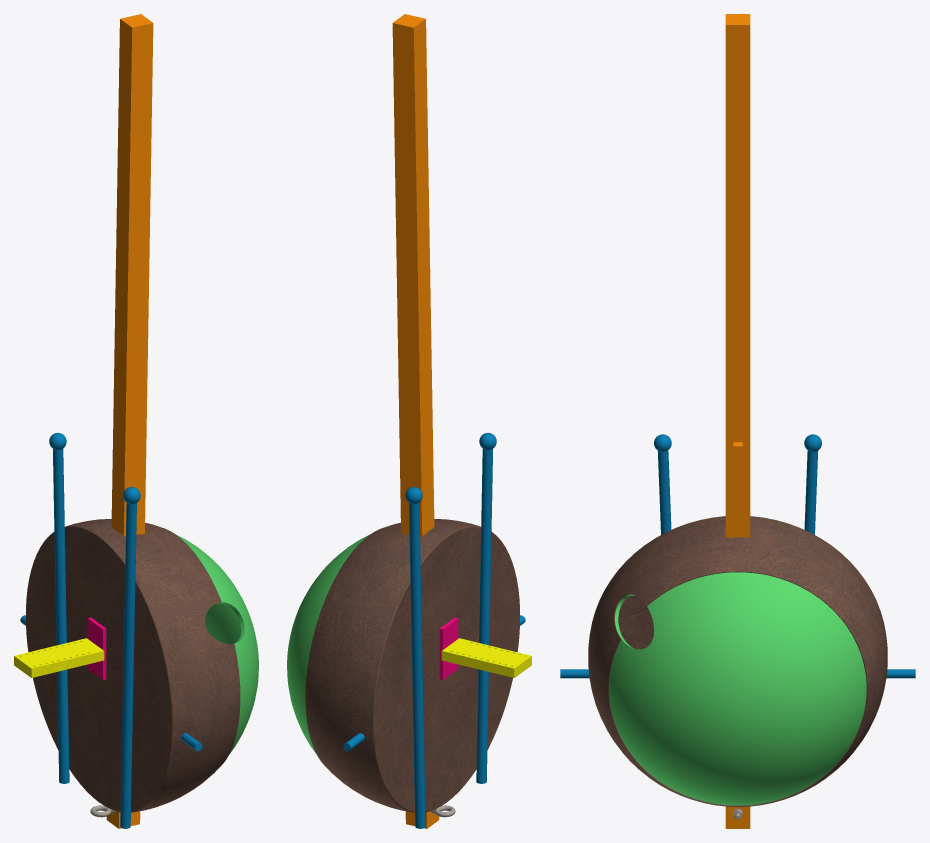
File: KOR-000_KoraHarp.gltf
3 renders of one model, left to right at view 1: azimuth 30°, elevation 25°; view 2: azimuth 150°, elevation 25°; view 3: azimuth 270°, elevation 25°, orthographic.
Parts seen in each view (by area): view 1: KOR-000-Membrane-1, KOR-000-Neck-1, KOR-000-Gourd-1, KOR-000-Handle-2, KOR-000-Handle-1, KOR-000-Bridge-1, KOR-000-BridgePad-1; view 2: KOR-000-Membrane-1, KOR-000-Neck-1, KOR-000-Handle-1, KOR-000-Handle-2, KOR-000-Gourd-1, KOR-000-Bridge-1, KOR-000-BridgePad-1; view 3: KOR-000-Gourd-1, KOR-000-Membrane-1, KOR-000-Neck-1, KOR-000-Handle-1, KOR-000-Handle-2.
Part boxes in pixels (x1,y1,x2,y2): KOR-000-Membrane-1: (26, 519, 240, 812); KOR-000-Neck-1: (106, 14, 153, 828); KOR-000-Gourd-1: (177, 535, 258, 754); KOR-000-Handle-2: (120, 487, 140, 828); KOR-000-Handle-1: (49, 432, 69, 783); KOR-000-Bridge-1: (14, 638, 104, 677); KOR-000-BridgePad-1: (87, 617, 106, 680); KOR-000-Membrane-1: (305, 519, 519, 812); KOR-000-Neck-1: (392, 14, 439, 828); KOR-000-Handle-1: (405, 487, 425, 828); KOR-000-Handle-2: (476, 432, 496, 783); KOR-000-Gourd-1: (287, 535, 368, 754); KOR-000-Bridge-1: (441, 638, 531, 677); KOR-000-BridgePad-1: (439, 617, 458, 680); KOR-000-Gourd-1: (609, 572, 866, 805); KOR-000-Membrane-1: (588, 516, 887, 806); KOR-000-Neck-1: (725, 14, 750, 828); KOR-000-Handle-1: (804, 434, 821, 534); KOR-000-Handle-2: (654, 434, 671, 534).
Size of the model in its own units: 0.4543 by 1.6 by 0.635.
9 materials, 1 textured.
